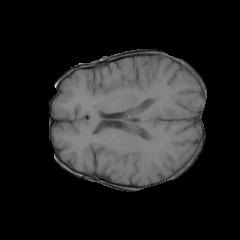glioma: (142, 84, 171, 113)
